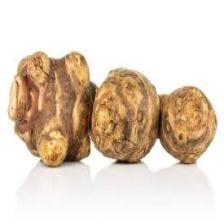Damaged potato: (8, 49, 220, 173)
